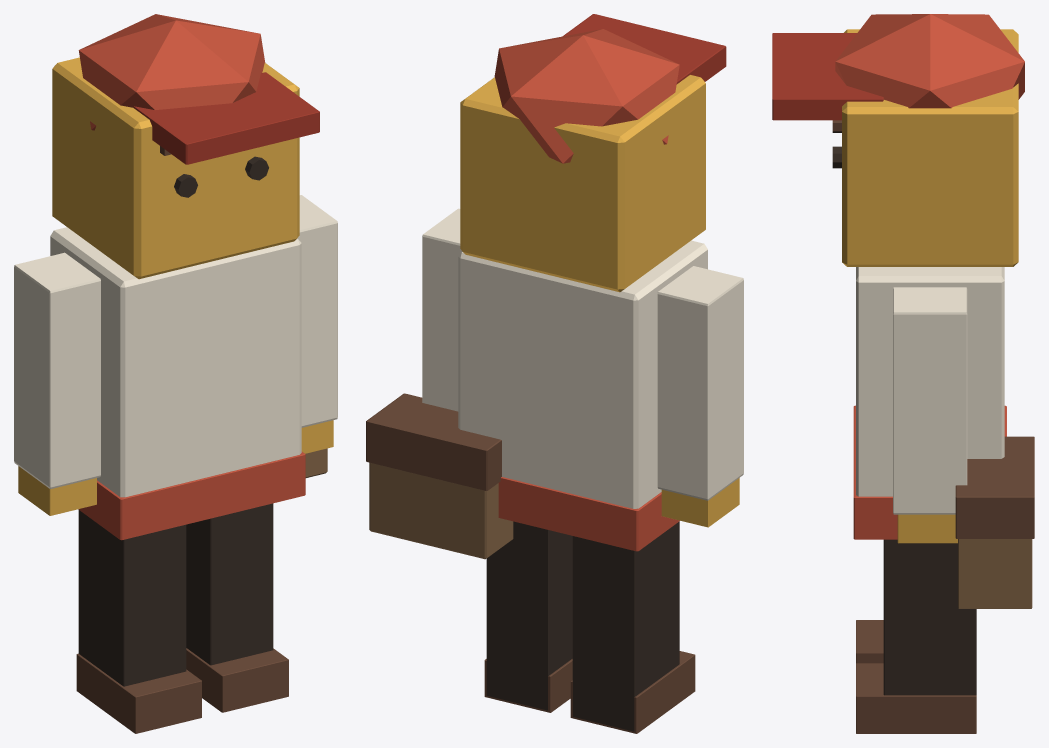
Rendered from courier.glb.
The picture shows the model from 3 angles, left to right: view 1: azimuth 30°, elevation 25°; view 2: azimuth 150°, elevation 25°; view 3: azimuth 270°, elevation 25°; orthographic projection. The views are drawn at different scales.
Visible parts, largest first — view 1: body, head, armLeft, legLeft, cap, legRight, body_belt, cap_brim, armRight, shoeL, shoeR, handL (+2 smaller); view 2: body, head, armLeft, legLeft, cap, legRight, satchel, satchel_flap, body_belt, armRight, cap_brim, shoeL (+2 smaller); view 3: head, body, armRight, cap, legRight, satchel_flap, cap_brim, shoeR, satchel, body_belt, handR, shoeL.
Part boxes in pixels (x1,y1,x2,y2): body: [50, 227, 301, 497]; head: [52, 57, 299, 279]; armLeft: [14, 252, 100, 488]; legLeft: [78, 510, 186, 686]; cap: [78, 14, 265, 130]; legRight: [186, 503, 273, 665]; body_belt: [78, 451, 305, 540]; cap_brim: [133, 72, 319, 164]; armRight: [297, 195, 337, 427]; shoeL: [76, 653, 201, 733]; shoeR: [186, 648, 288, 712]; handL: [18, 466, 96, 515]; body: [458, 240, 707, 508]; head: [460, 75, 705, 292]; armLeft: [657, 266, 743, 500]; legLeft: [572, 521, 679, 731]; cap: [494, 29, 679, 163]; legRight: [486, 521, 572, 710]; satchel: [369, 462, 513, 559]; satchel_flap: [366, 393, 501, 490]; body_belt: [498, 477, 679, 551]; armRight: [422, 208, 462, 411]; cap_brim: [562, 14, 726, 84]; shoeL: [570, 651, 695, 733]; head: [842, 29, 1018, 266]; body: [856, 267, 1004, 496]; armRight: [893, 287, 967, 514]; cap: [835, 14, 1024, 108]; legRight: [883, 539, 976, 695]; satchel_flap: [955, 436, 1034, 538]; cap_brim: [772, 33, 883, 120]; shoeR: [856, 663, 976, 733]; satchel: [958, 539, 1032, 608]; body_belt: [853, 405, 1006, 539]; handR: [897, 514, 957, 543]; shoeL: [856, 620, 883, 663].
Bounding box in the file's own units: 0.79 × 1.62 × 0.565.
